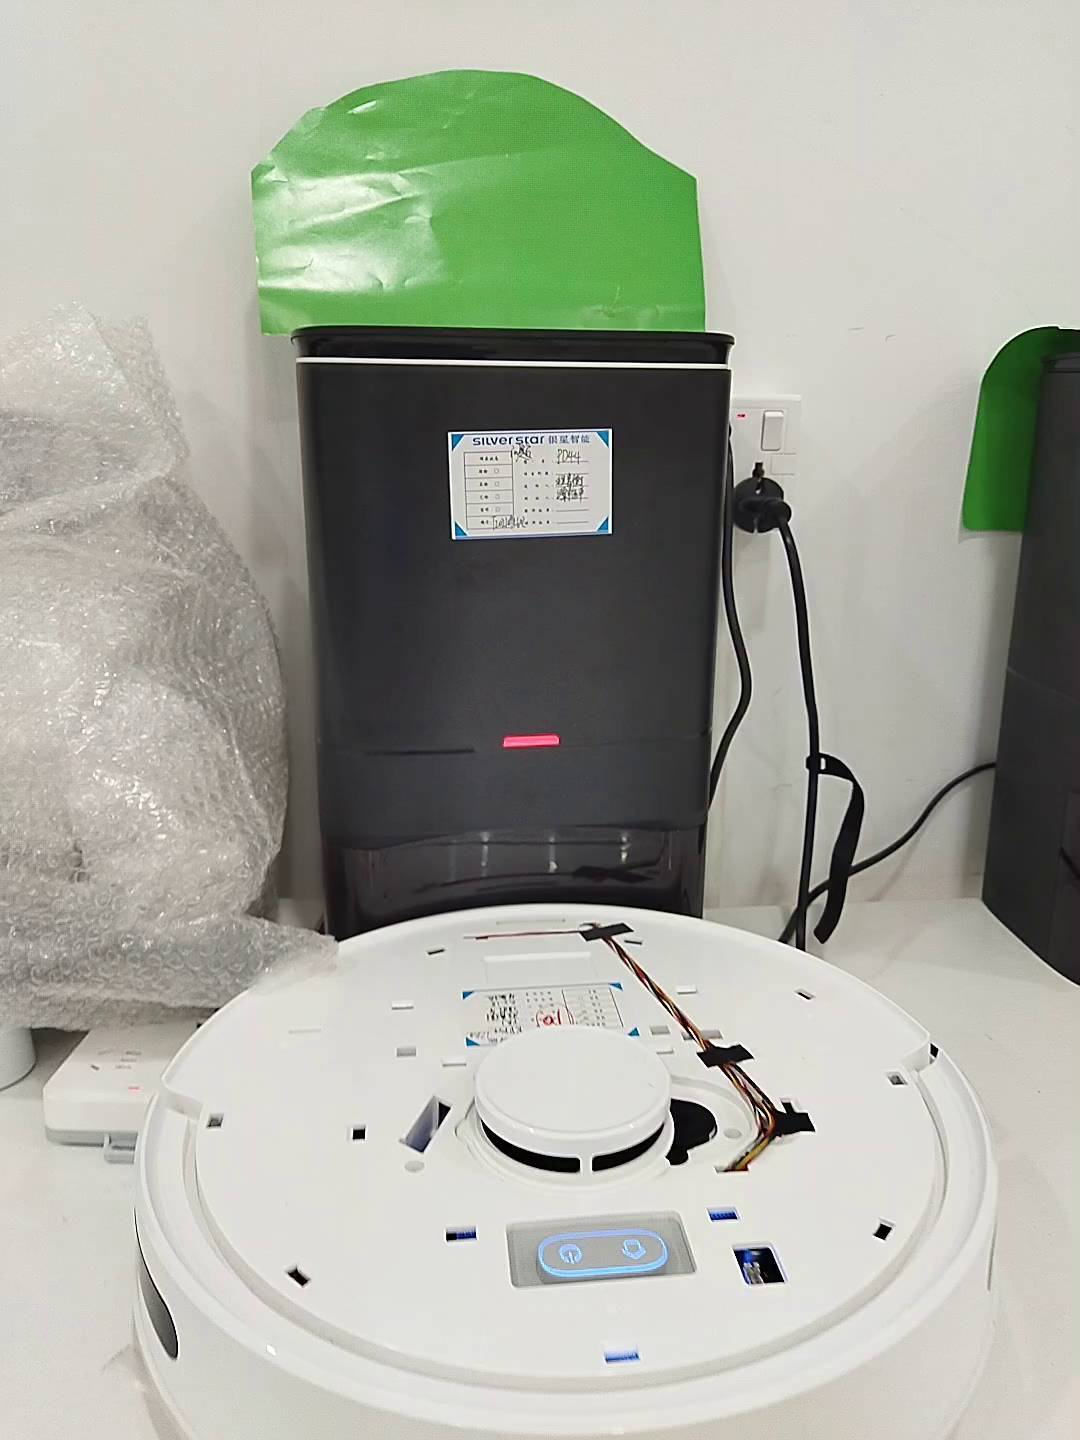dust collecting barrel: (290, 322, 736, 940)
